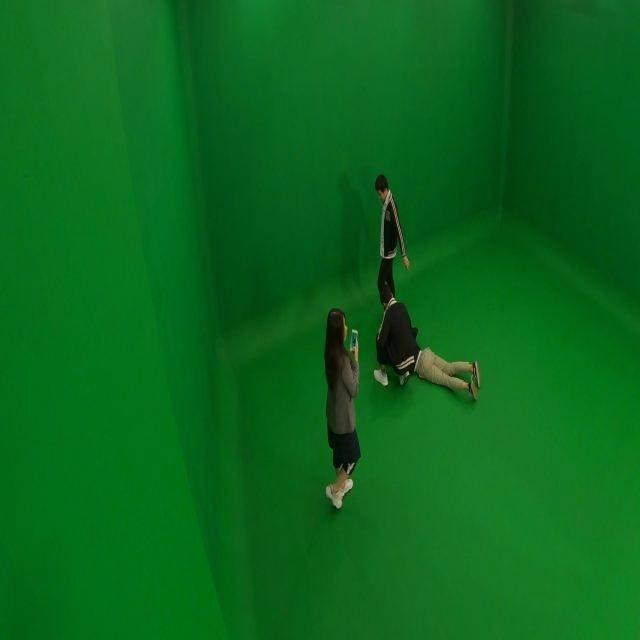fight: (369, 276, 485, 404)
non-fight: (320, 306, 367, 510), (372, 168, 406, 307)
